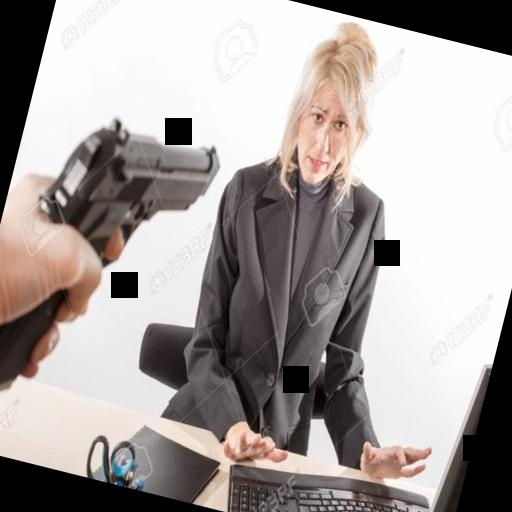Handgun: (0, 99, 226, 438)
